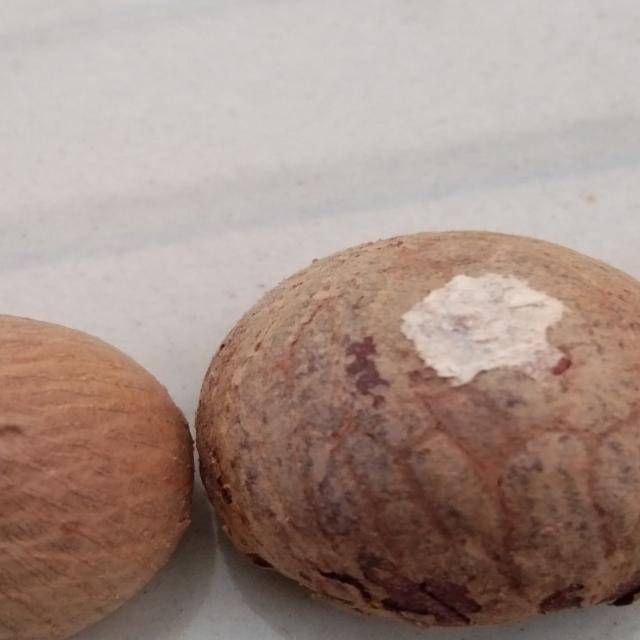good: (0, 308, 178, 640)
karigot: (181, 228, 640, 640)
